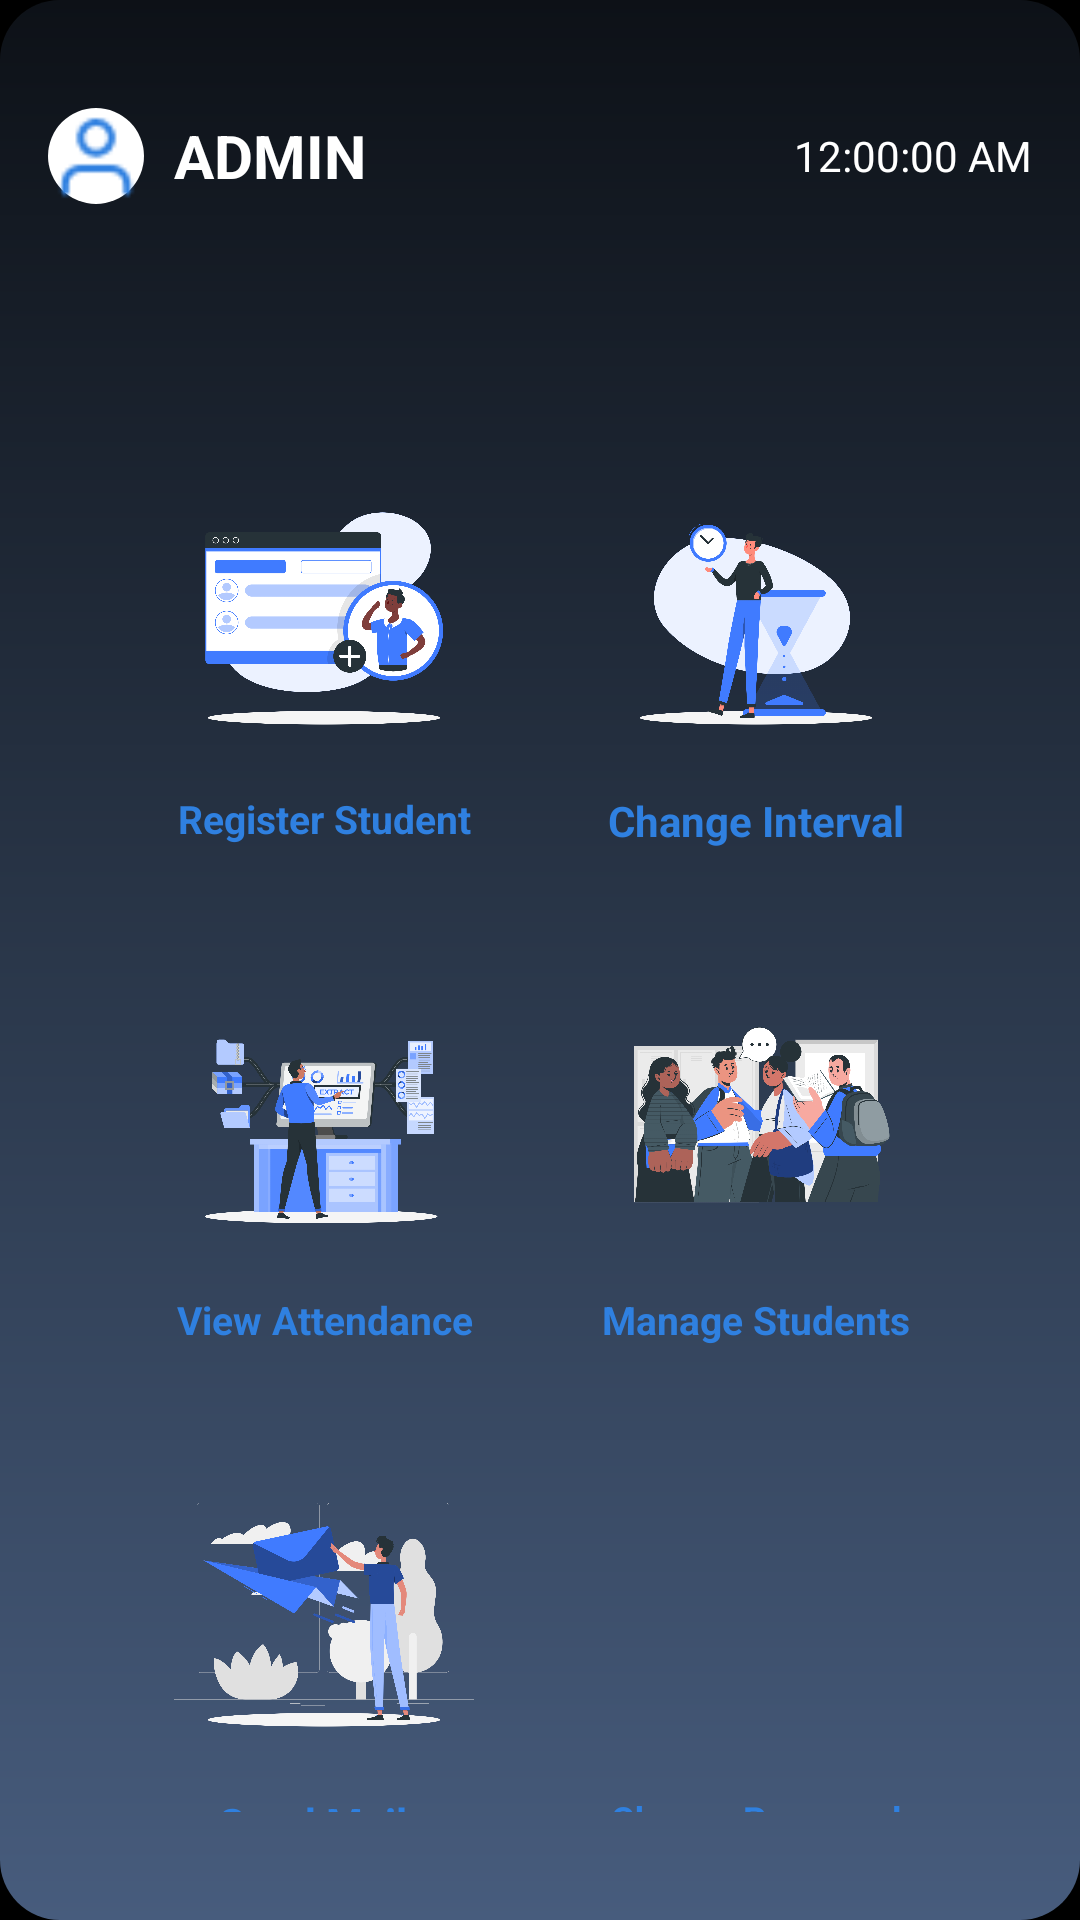

Icon click points for this 1080 x 1920 phone screenshot, format [x,y]:
collegestudents: [762,1114]
data: [321,1131]
mailsent: [324,1615]
timemanagement: [756,624]
user: [96,156]
